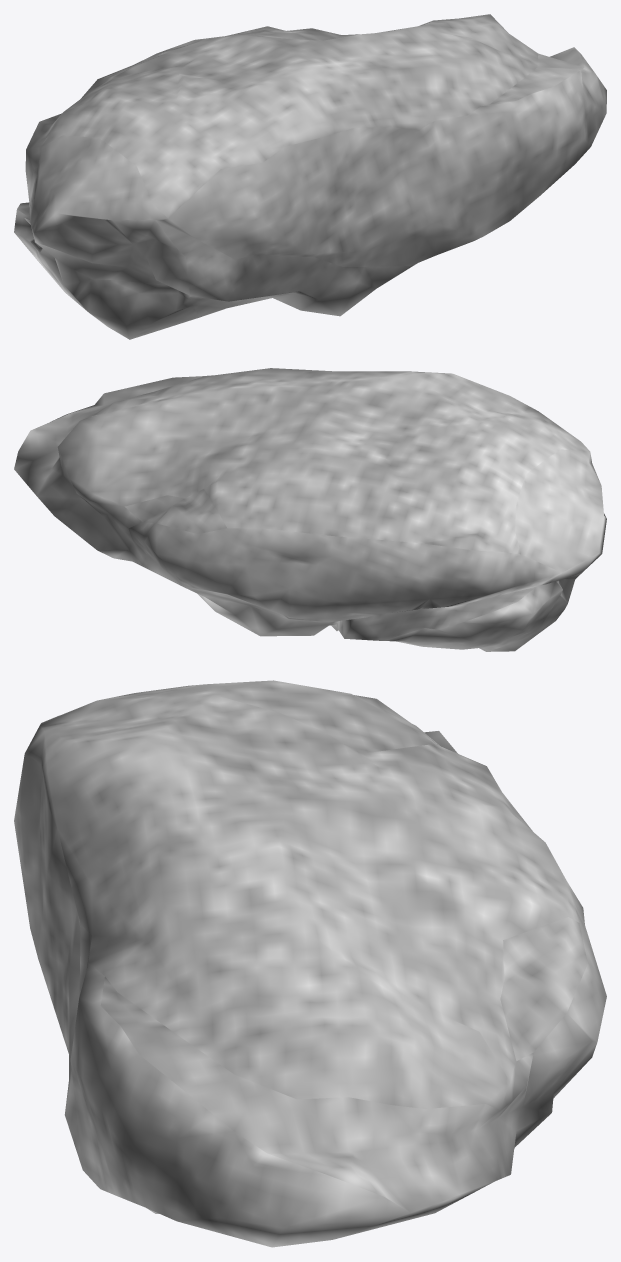
The model's file is boulder-bench-lod2.glb.
3 views of the same model, one above another, from view 1: azimuth 30°, elevation 25°; view 2: azimuth 150°, elevation 25°; view 3: azimuth 270°, elevation 25° (orthographic). The views are drawn at different scales.
Parts seen in each view (by area): view 1: namaqualand_boulder_05; view 2: namaqualand_boulder_05; view 3: namaqualand_boulder_05.
Part boxes in pixels (box(x1,y1,x2,y2)): namaqualand_boulder_05: box(14, 14, 606, 339); namaqualand_boulder_05: box(14, 368, 606, 651); namaqualand_boulder_05: box(14, 680, 606, 1247).
Bounding box in the file's own units: 1.36 × 0.5383 × 0.7462.
Materials: 1 (1 with a texture image).
